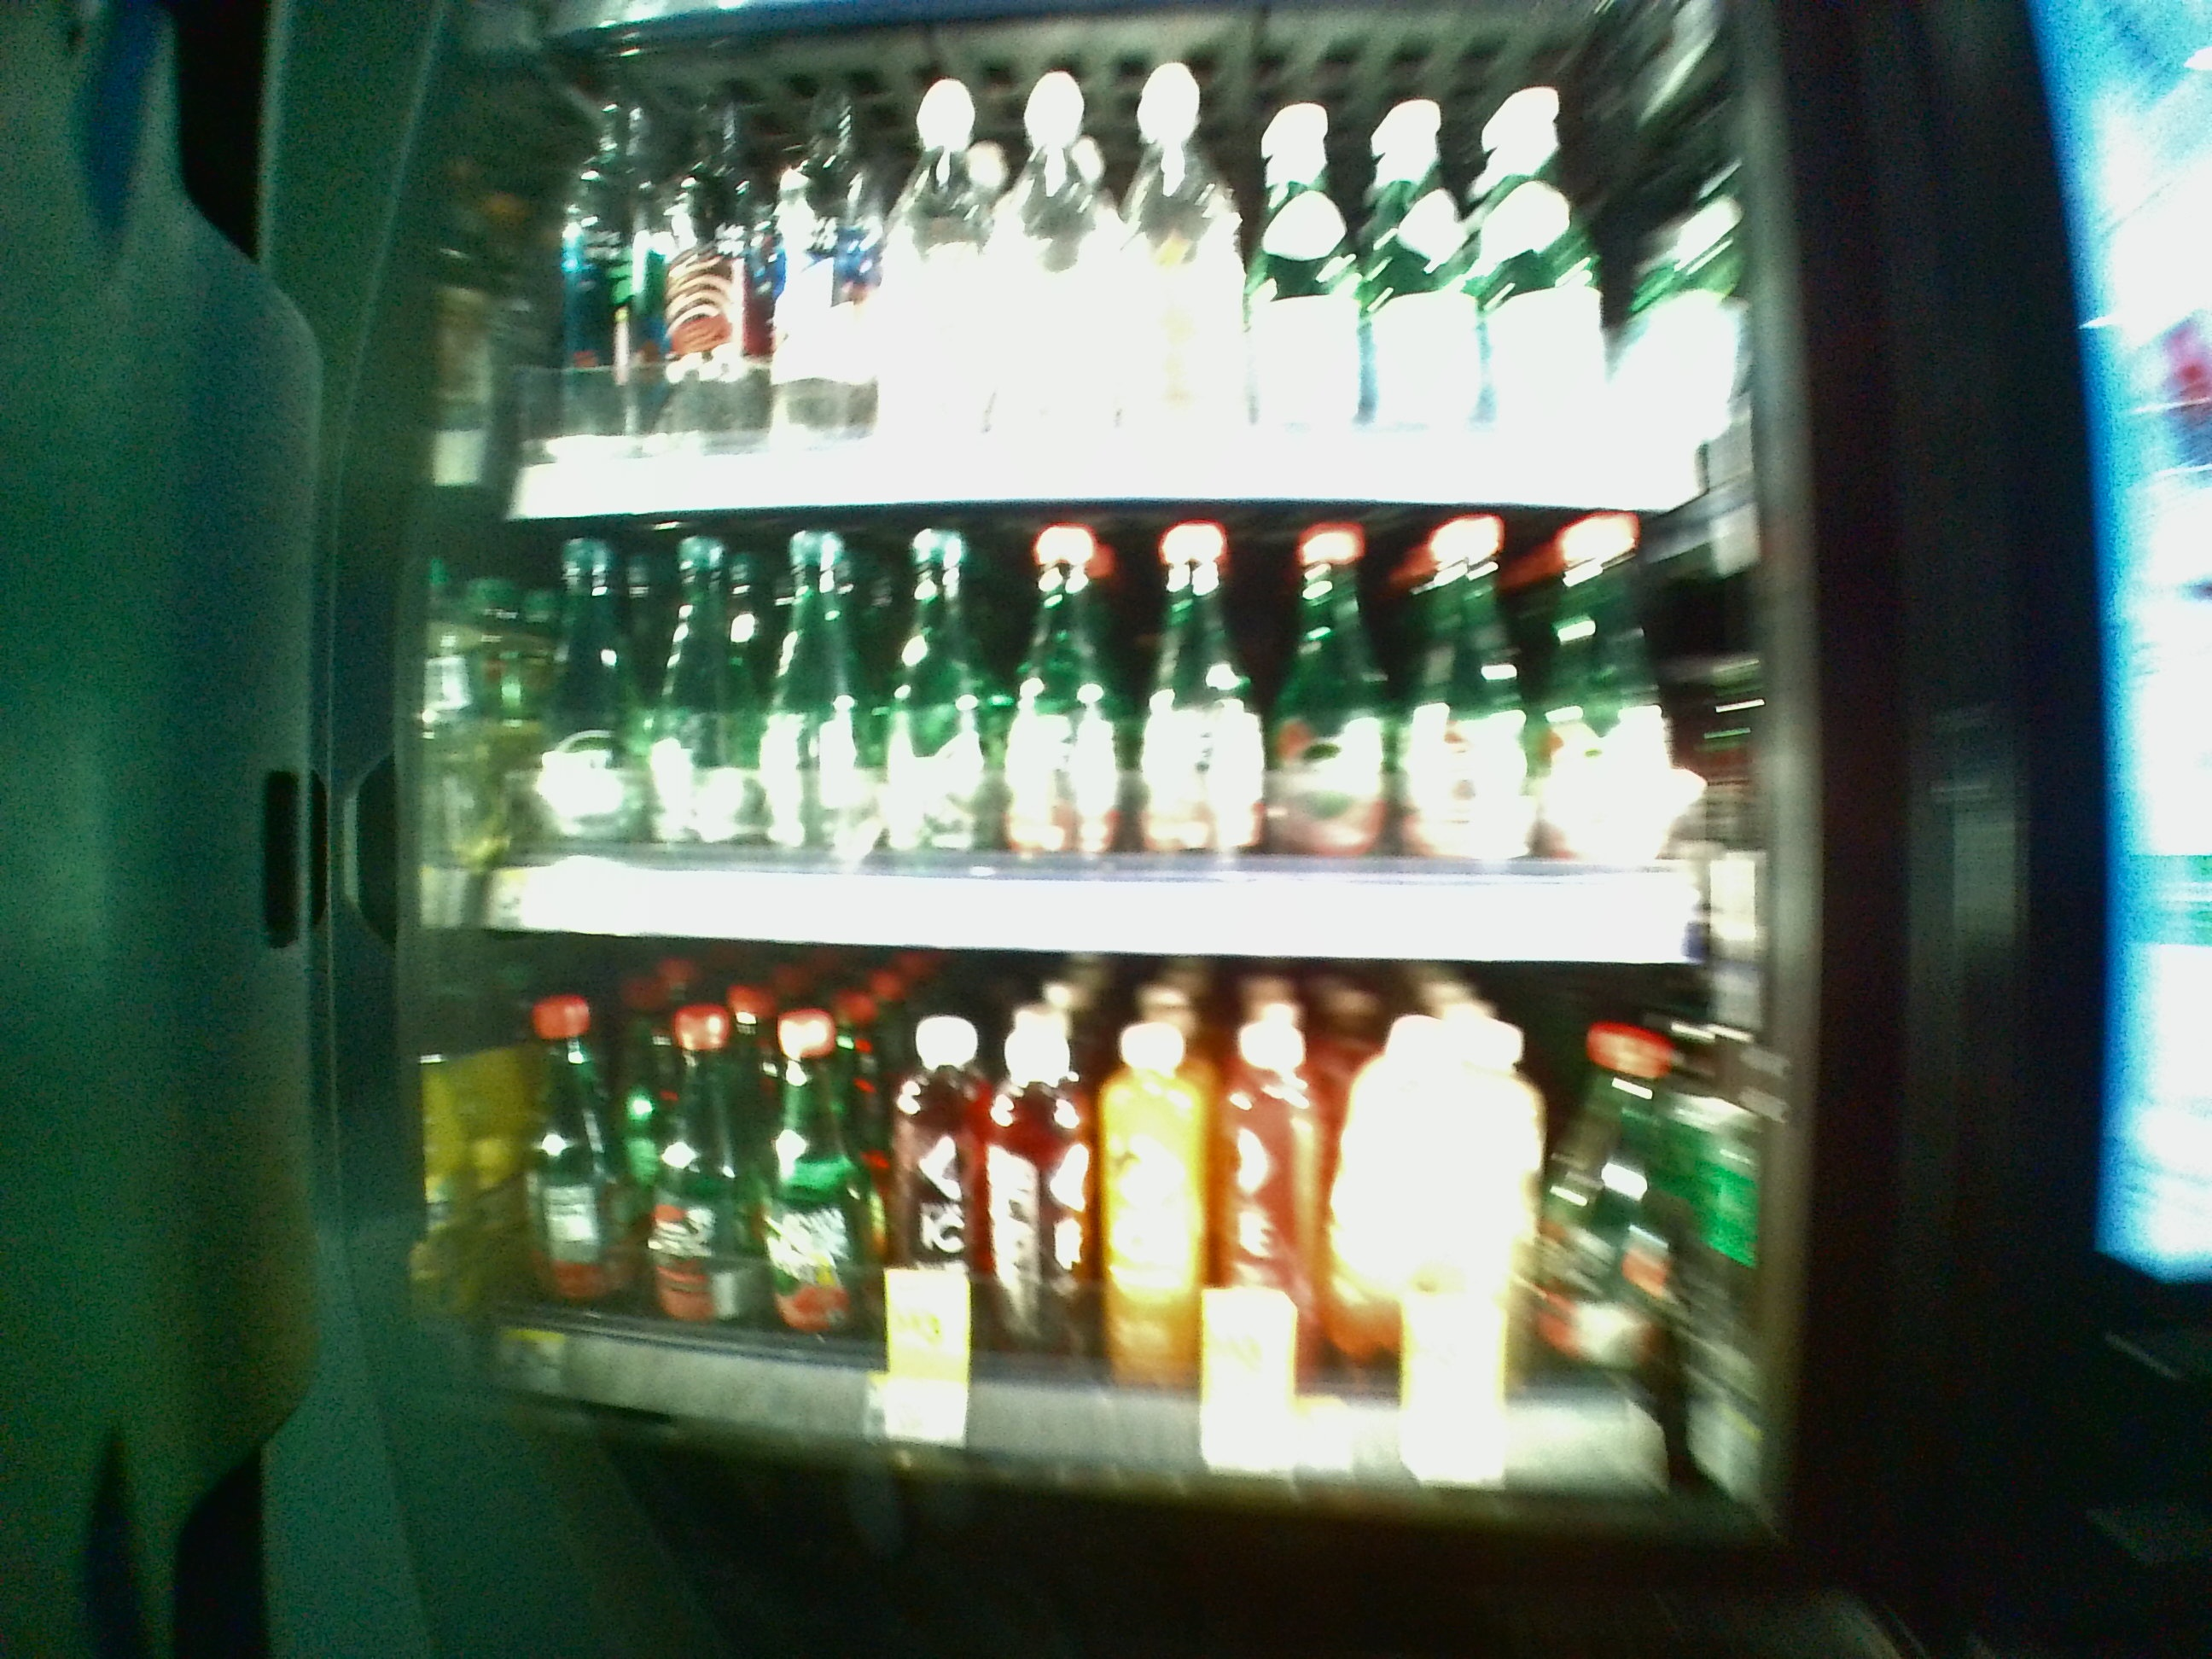Shelf: (465, 964, 1707, 1513), (462, 521, 1712, 964)
